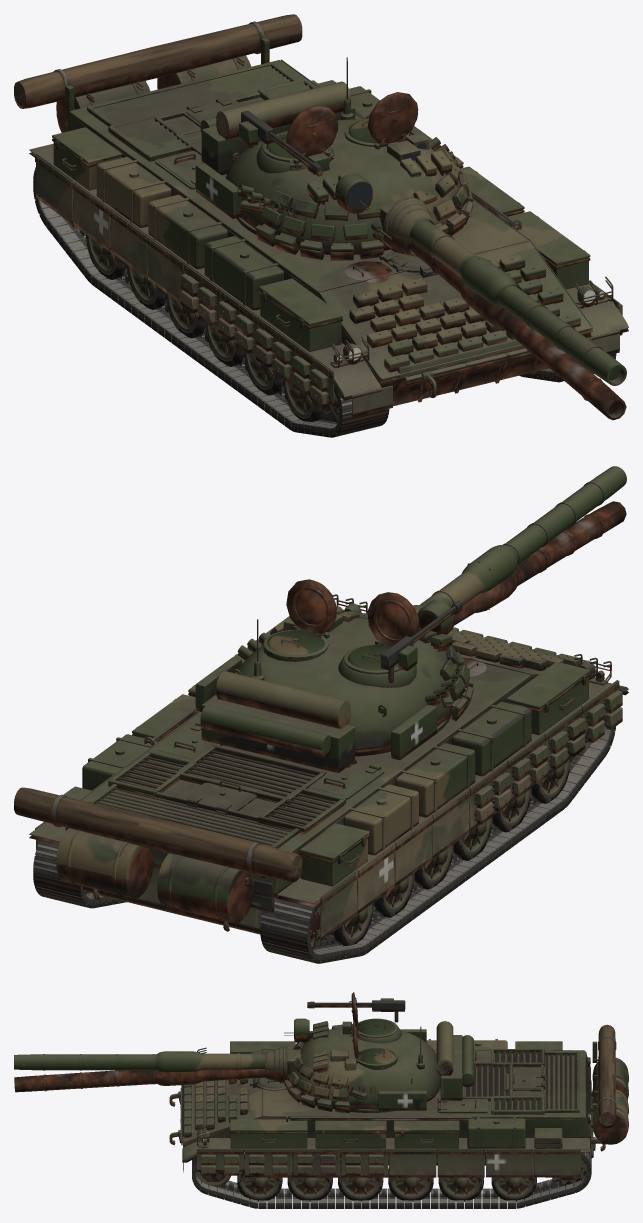
The picture shows the model from 3 angles, top to bottom: view 1: azimuth 30°, elevation 25°; view 2: azimuth 150°, elevation 25°; view 3: azimuth 270°, elevation 25°; orthographic projection. The views are drawn at different scales.
Visible parts, largest first — view 1: hull_geo, turret_geo, hull_wreck, turret_wreck, gun_geo, track_R; view 2: hull_geo, turret_geo, hull_wreck, turret_wreck, track_R, gun_geo, hatch_lid_gunner_geo, track_L, hatch_lid_commander_geo; view 3: hull_geo, turret_geo, hull_wreck, turret_wreck, gun_geo, track_L, roadwheel_L1_geo, roadwheel_L3_geo, roadwheel_L4_geo, roadwheel_L6_geo, roadwheel_L2_geo, roadwheel_L5_geo (+2 smaller).
Part boxes in pixels (<box>): hull_geo: <box>14,14,628,413</box>; turret_geo: <box>195,57,473,256</box>; hull_wreck: <box>14,32,628,437</box>; turret_wreck: <box>196,61,626,420</box>; gun_geo: <box>371,197,626,385</box>; track_R: <box>33,167,386,434</box>; hull_geo: <box>14,594,628,937</box>; turret_geo: <box>195,600,473,769</box>; hull_wreck: <box>14,597,628,963</box>; turret_wreck: <box>196,501,626,772</box>; track_R: <box>260,726,615,960</box>; gun_geo: <box>413,466,626,614</box>; hatch_lid_gunner_geo: <box>267,627,325,655</box>; track_L: <box>33,841,117,904</box>; hatch_lid_commander_geo: <box>347,641,398,670</box>; hull_geo: <box>169,1024,628,1175</box>; turret_geo: <box>284,998,473,1110</box>; hull_wreck: <box>169,1045,628,1208</box>; turret_wreck: <box>14,992,473,1112</box>; gun_geo: <box>14,1046,293,1072</box>; track_L: <box>192,1149,591,1206</box>; roadwheel_L1_geo: <box>237,1159,282,1198</box>; roadwheel_L3_geo: <box>338,1161,383,1198</box>; roadwheel_L4_geo: <box>388,1166,433,1198</box>; roadwheel_L6_geo: <box>491,1160,536,1198</box>; roadwheel_L2_geo: <box>287,1158,332,1198</box>; roadwheel_L5_geo: <box>438,1177,483,1198</box>.
Size of what is drawn, in the model's own units: 3.72 by 2.9 by 10.13.
Materials: 6 (4 with a texture image).
